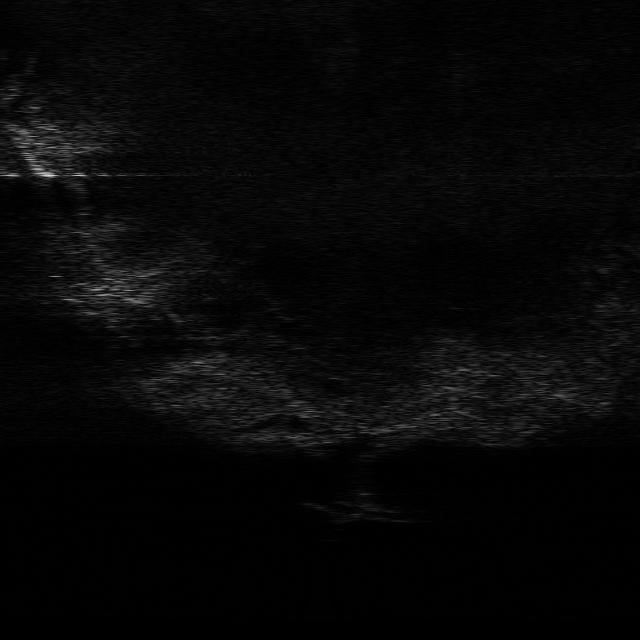plane: (300, 496, 419, 528)
